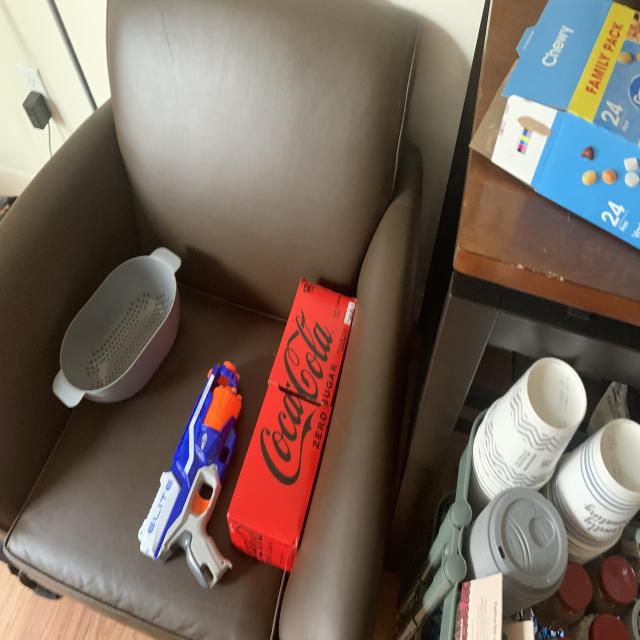nerf-maverik: (134, 353, 246, 597)
